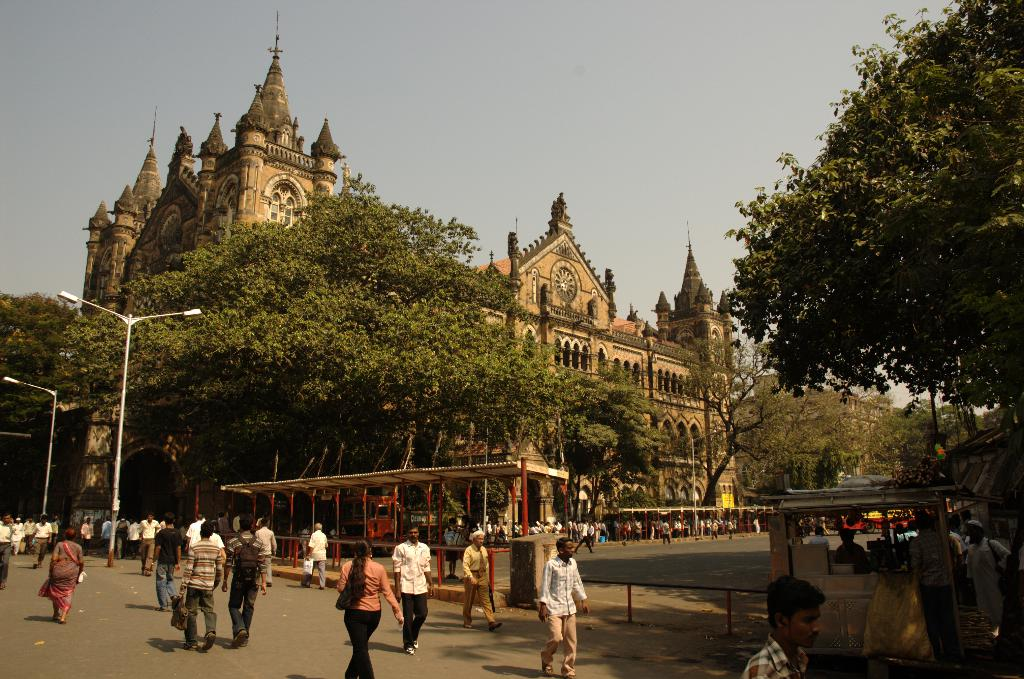Tree: (109, 172, 668, 527), (666, 0, 1023, 513), (0, 290, 112, 488)
